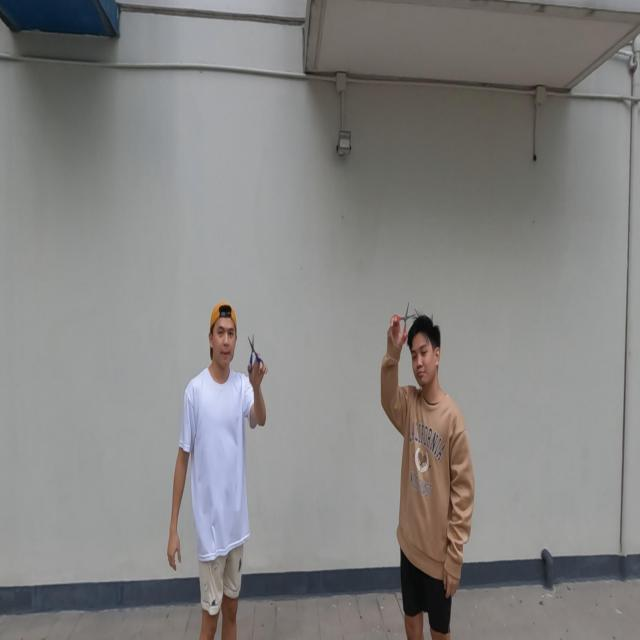scissor: (390, 302, 416, 346), (248, 334, 264, 373)
